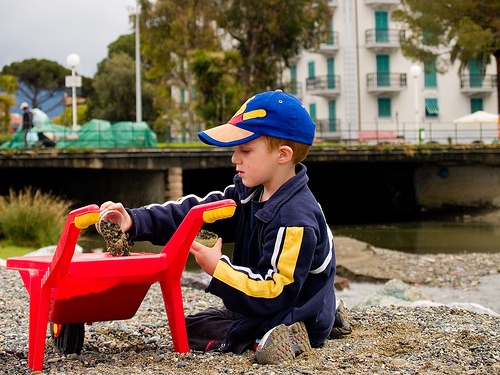head: (232, 92, 315, 189)
person: (97, 89, 336, 358), (19, 103, 33, 146)
